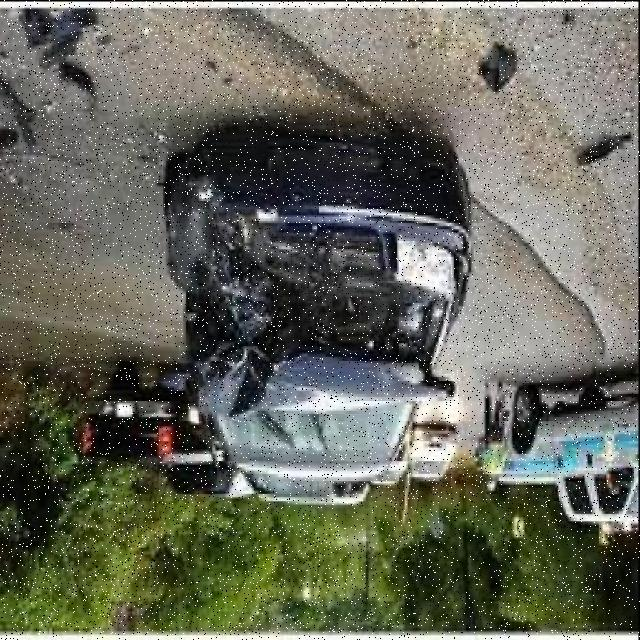damage: (182, 175, 458, 415)
